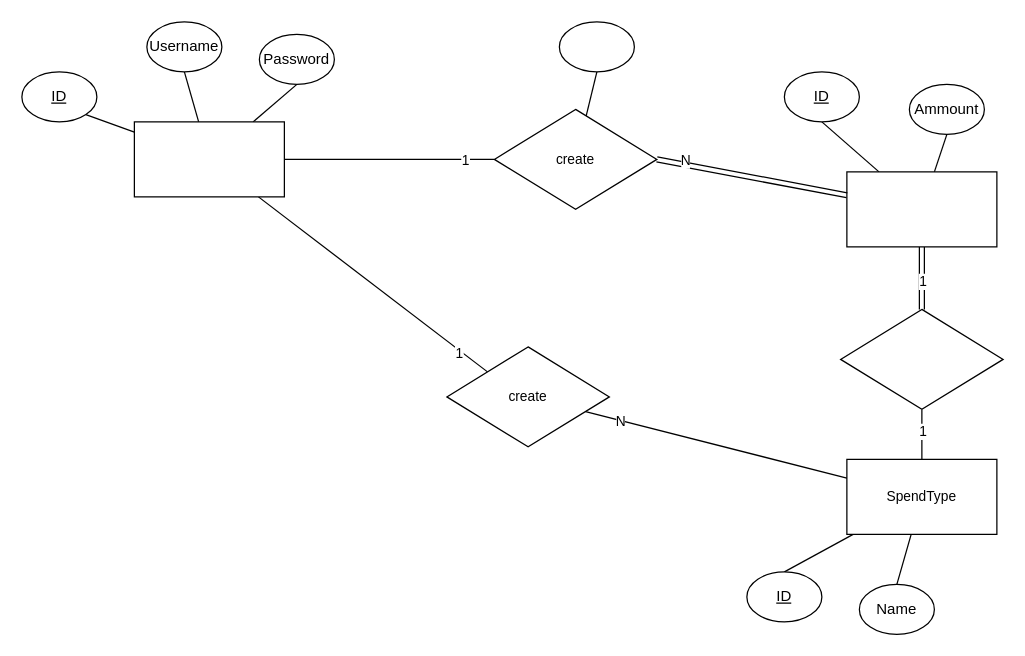
Image size: 1025x656. Some labels were removed from this diagram. The shapes that lost their labels are listed below. From the top down, each one's centre as x and y in pixels, then its label:
At (x=596, y=46): "CreatedAt".
At (x=208, y=159): "User".
At (x=921, y=209): "Spending".
At (x=921, y=358): "has".
